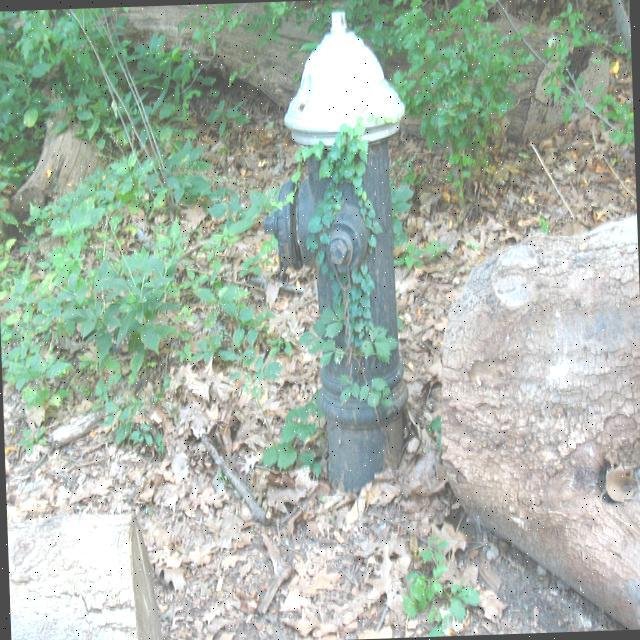fire_hydrant: (253, 9, 420, 504)
